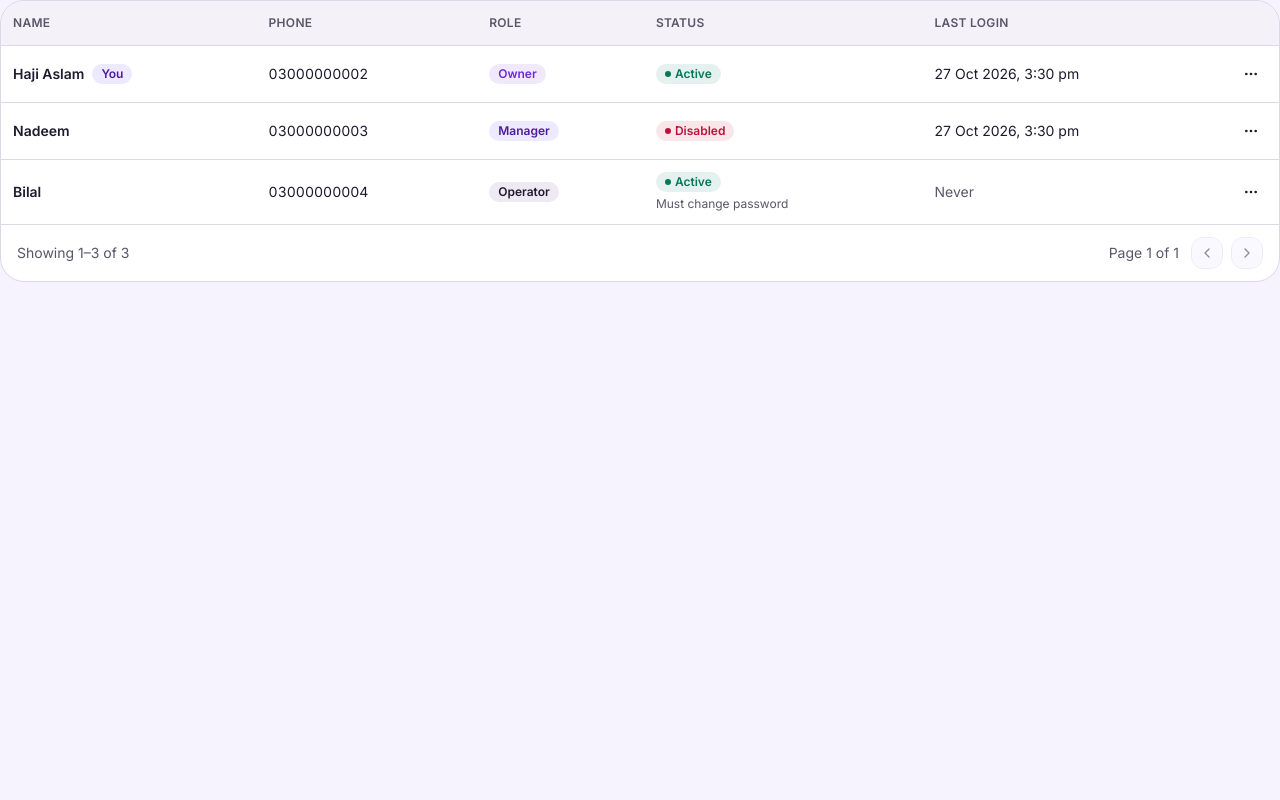
StaffTable › deactivates only after the confirmation explains what happens
Press Enter in the button named "Actions for Bilal", box [1235,176,1267,208]
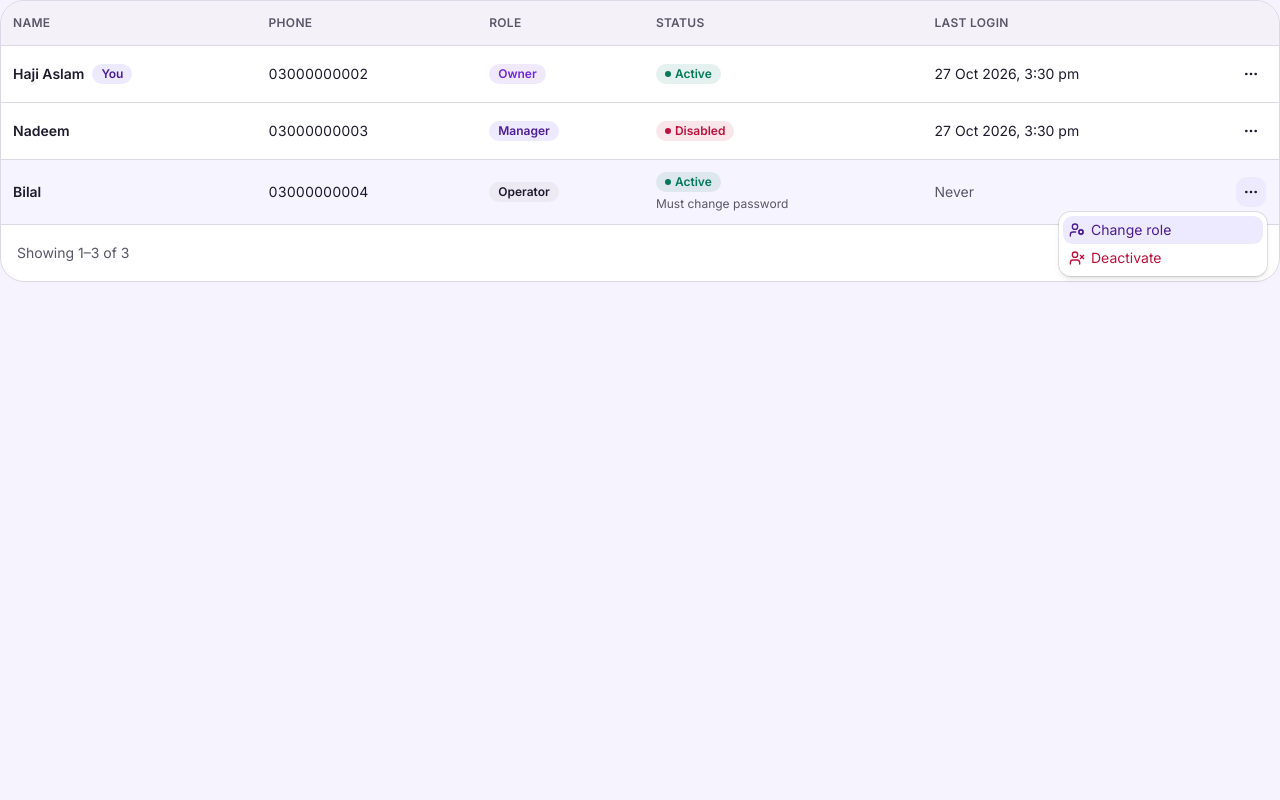
Click the menu item "Deactivate" at (1115, 258), box [1069,249,1162,266]
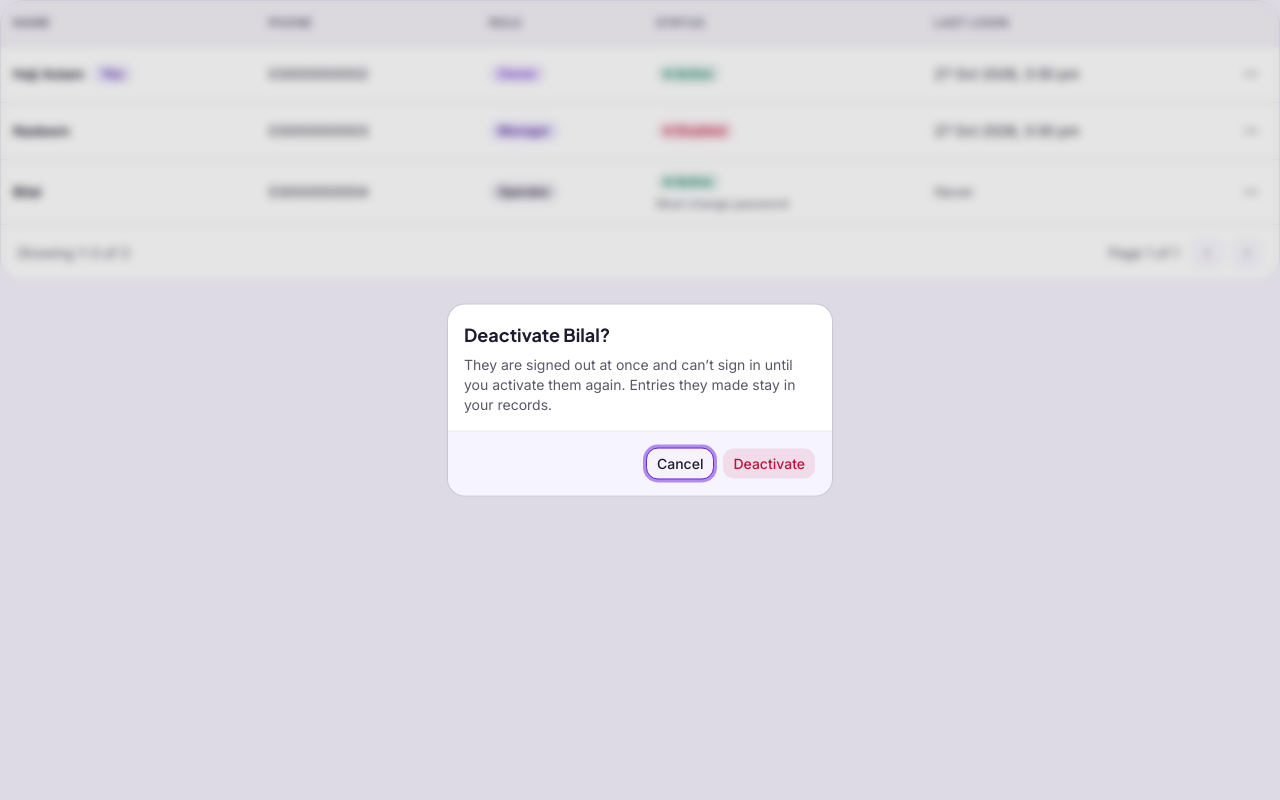
Expected: the dialog "Deactivate Bilal?" shows "They are signed out at once and can’t sign in until you activate them again.", [464,356,796,412]
Click the button "Deactivate" at (769, 464), box [722,448,816,480]
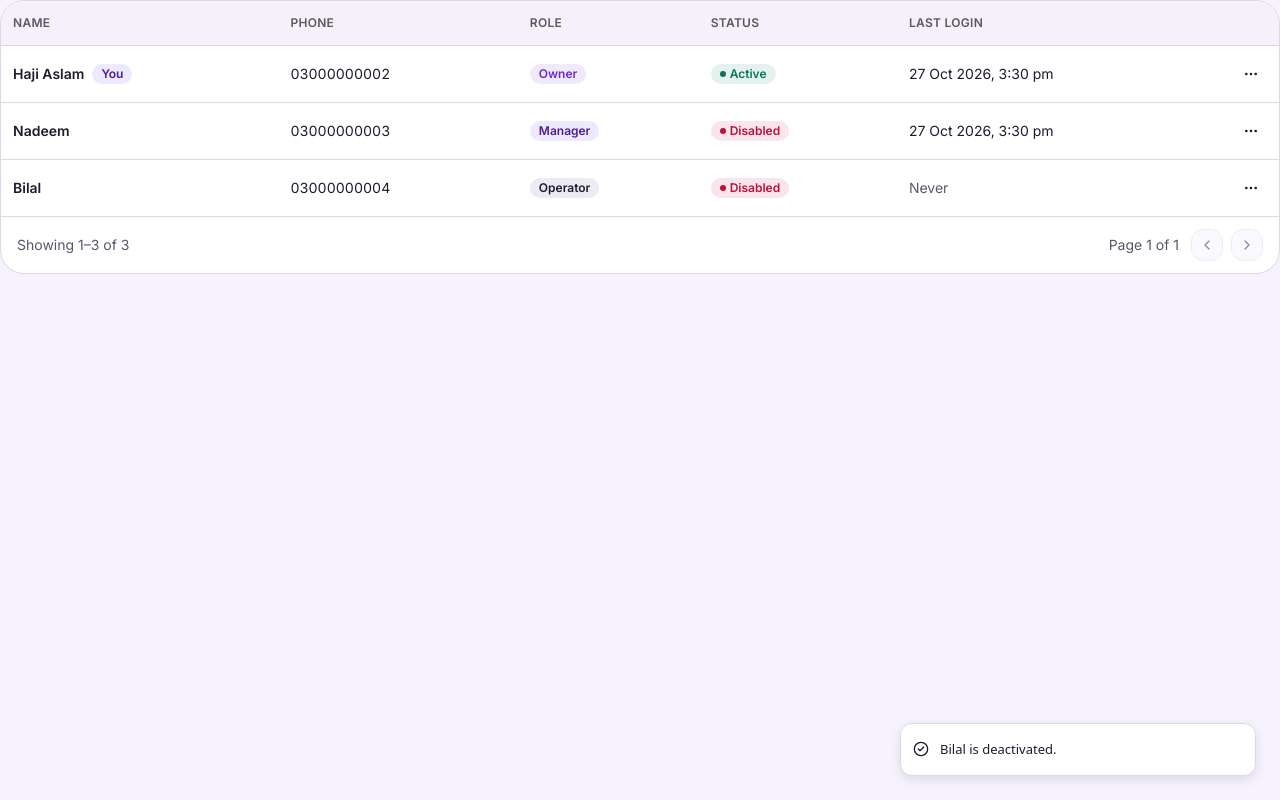
Expected: the dialog is gone
Expected: the text "Bilal is deactivated." is shown, [940,740,1056,759]
Expected: the text "Bilal" shows "Disabled", [730,180,780,194]
